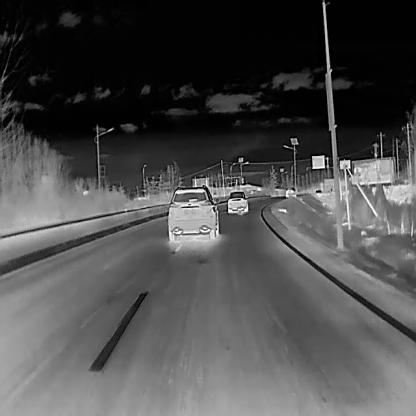car: (167, 184, 218, 242), (226, 190, 248, 214), (284, 186, 296, 197)
